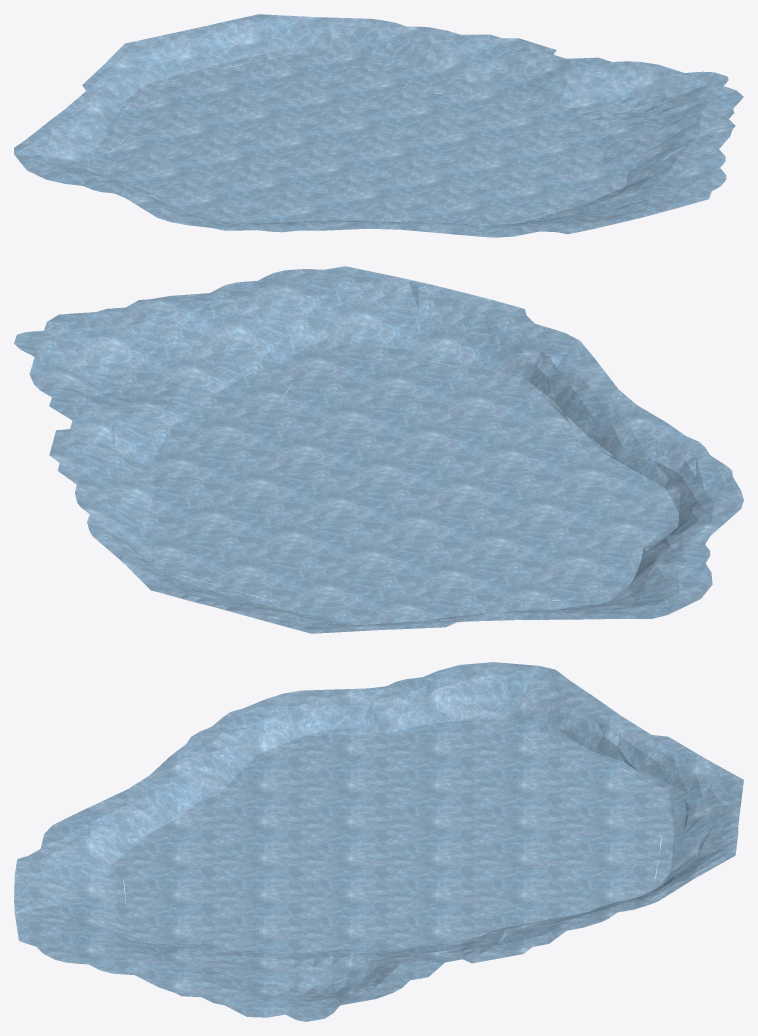
File: ice_lake_4-close.glb
3 renders of one model, top to bottom at view 1: azimuth 30°, elevation 25°; view 2: azimuth 150°, elevation 25°; view 3: azimuth 270°, elevation 25°, orthographic. The views are drawn at different scales.
Parts seen in each view (by area): view 1: ice_lake_d_LOD0; view 2: ice_lake_d_LOD0; view 3: ice_lake_d_LOD0.
Boxes of the visible parts, box(x1,y1,x2,y2) form: ice_lake_d_LOD0: box(14, 14, 743, 237); ice_lake_d_LOD0: box(14, 266, 743, 633); ice_lake_d_LOD0: box(14, 662, 743, 1021).
Size of the model in its own units: 88.56 by 2.16 by 75.93.
Materials: 1 (1 with a texture image).
